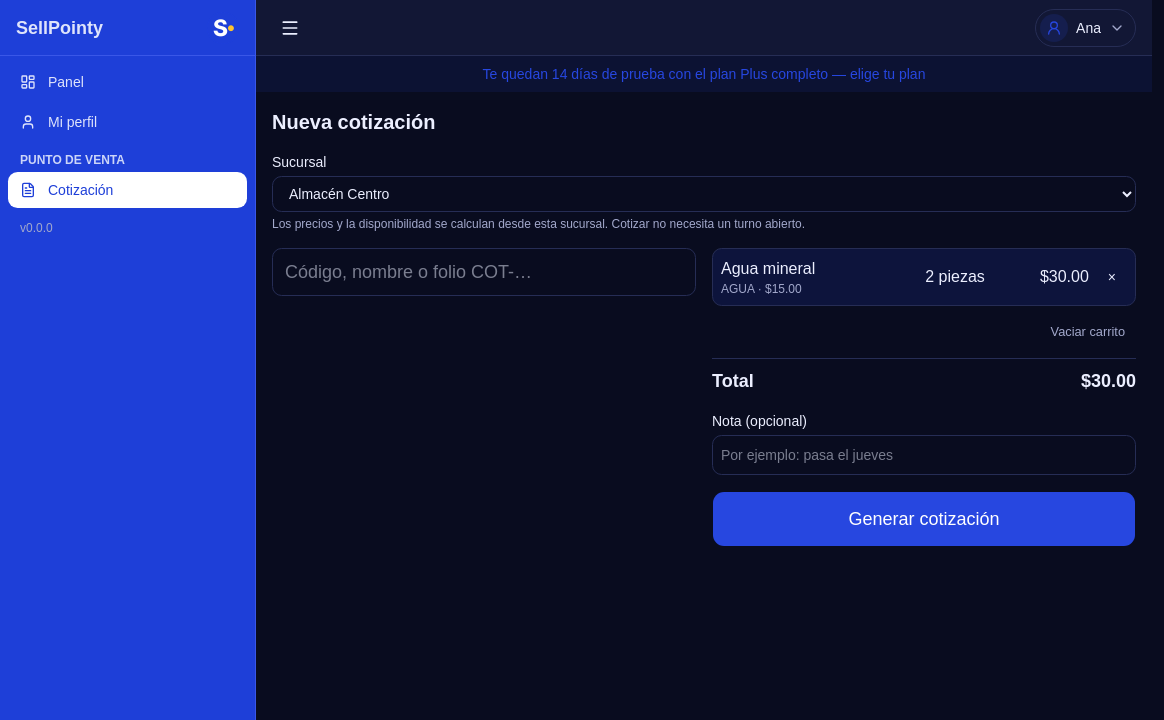
Cotización (F4-QUOTE-03 / F4-QUOTE-04) › armar una cotización (F4-QUOTE-03) › manda ids y cantidades y pinta el folio
The image size is (1164, 720).
Expected: the element with test id "quote-builder" is shown, [272, 152, 1136, 547]
What coordinates should you click on to do the following:
click the button "Generar cotización"
I would click on:
 (924, 519)
Its box is [712, 491, 1136, 547].
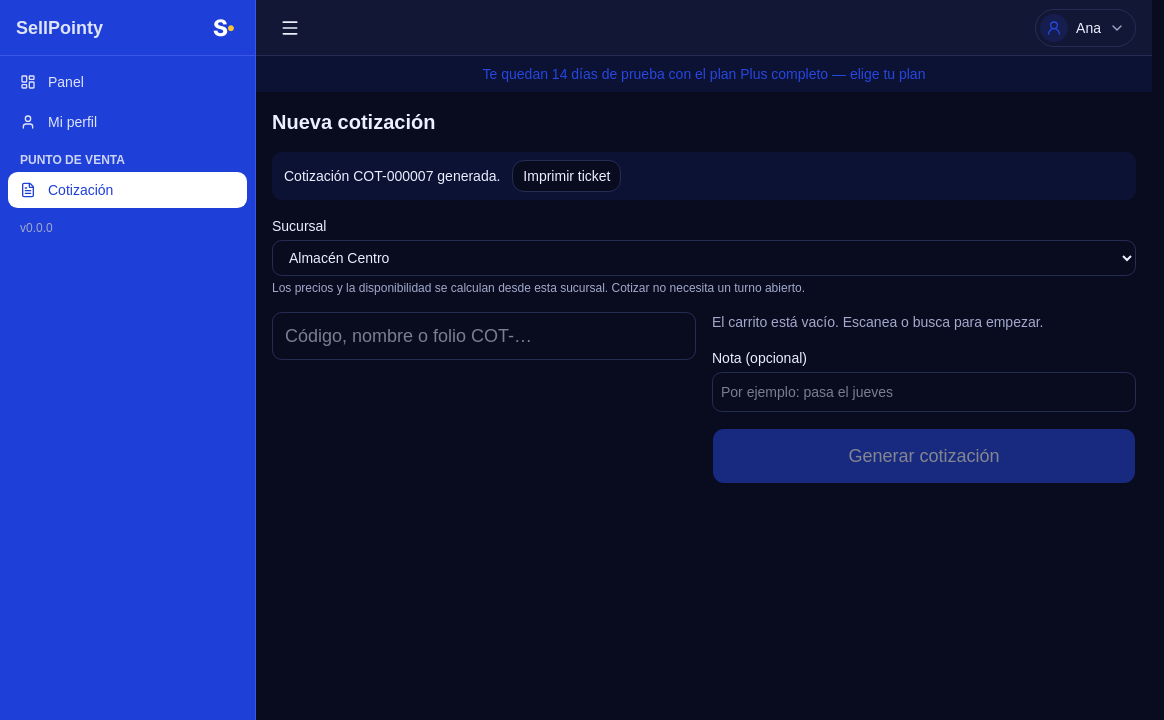
Now the element with test id "quote-done" shows "COT-000007", box [284, 168, 500, 184]
